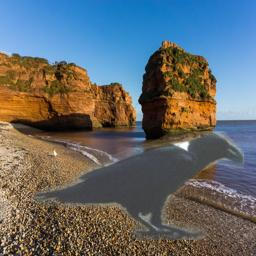Crow: (31, 131, 244, 240)
